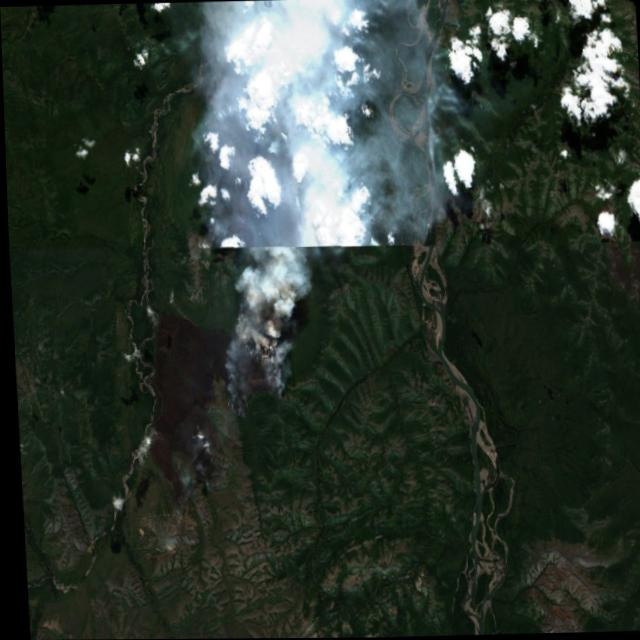fire: (182, 62, 239, 244), (222, 301, 279, 417)
